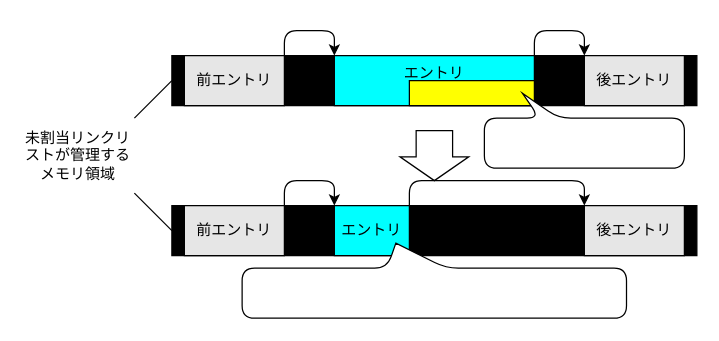
Image size: 719x341. Some labels were removed from this diagram. The shapes that lost their labels are listed below. From the top down, each one's centre as x and y in pixels, then its label:
pixel 471 92: 指定メモリ領域
pixel 583 130: エントリのメモリ領域内の末尾に指定メモリ領域がある
pixel 433 280: エントリから指定メモリ領域を引いて、指定メモリ領域を割当済リンクリストに追加（メモリ領域追加）
